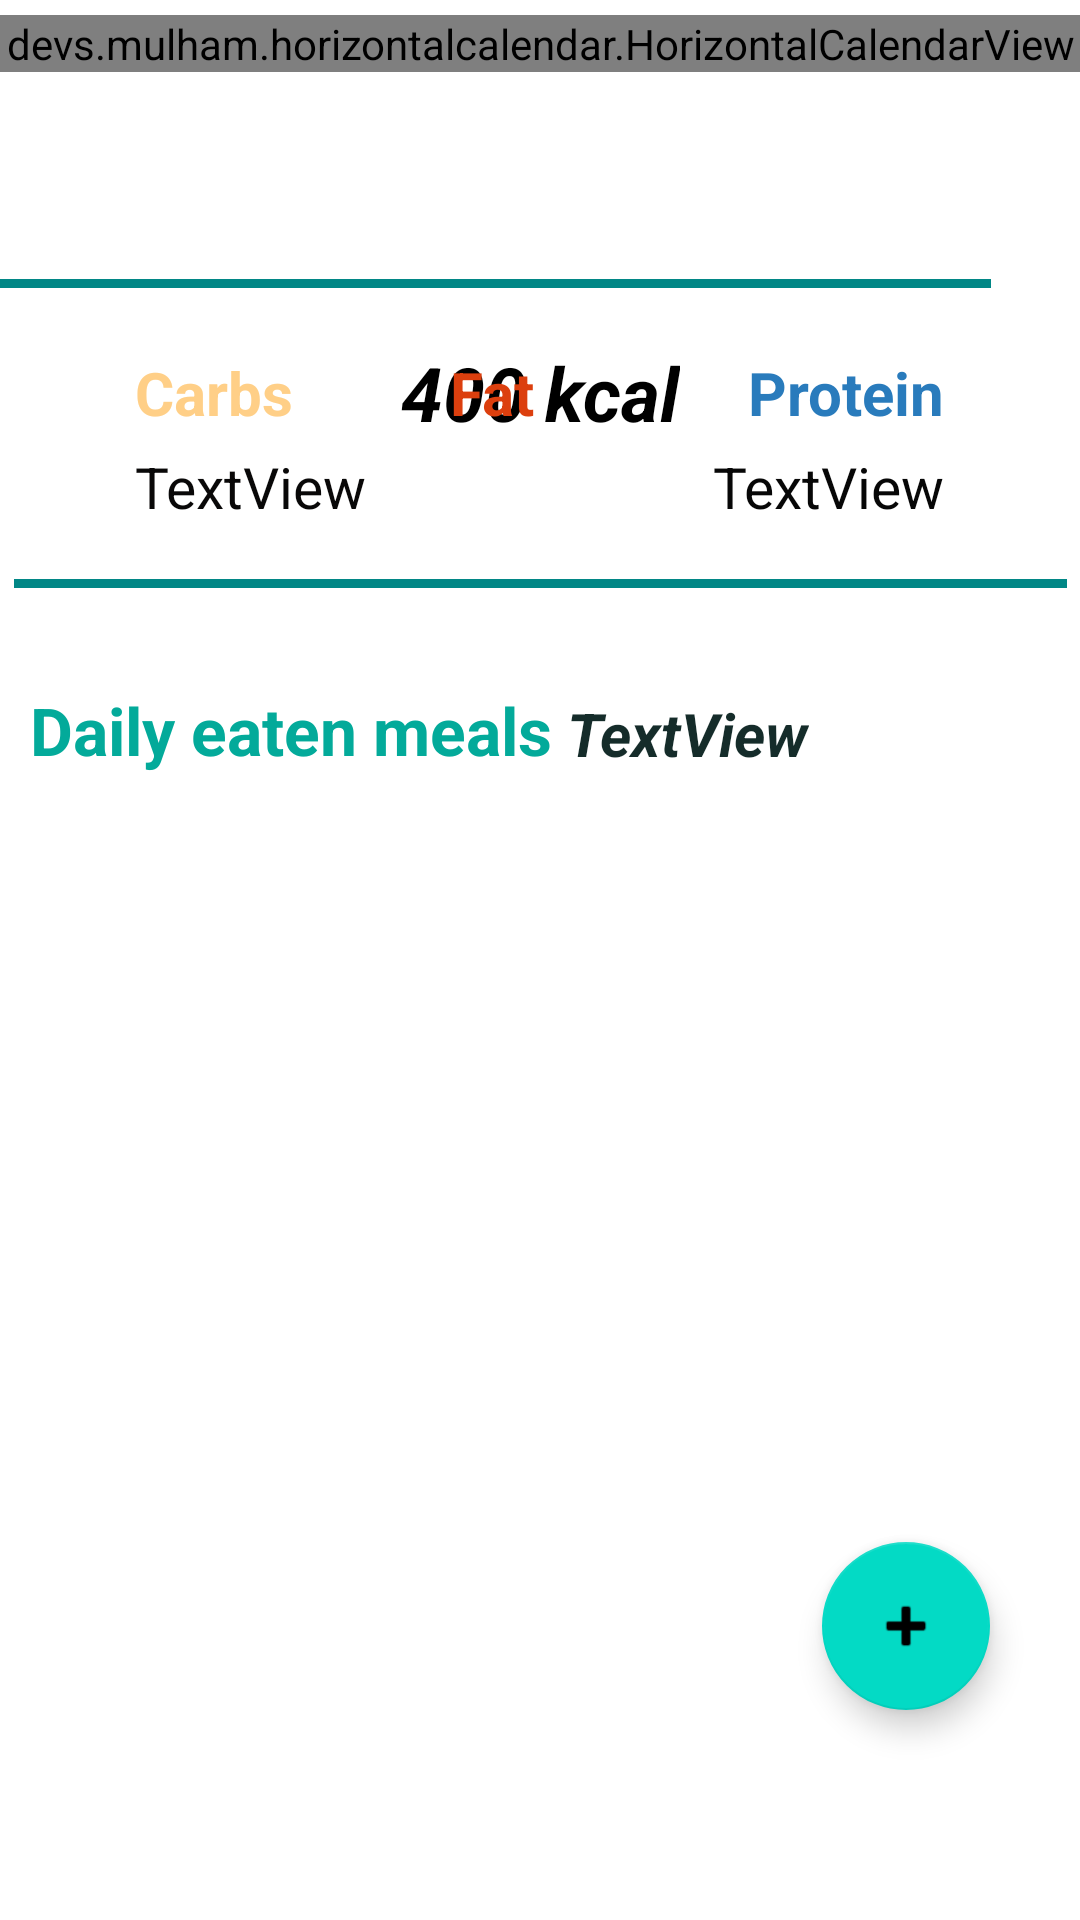

Icon click points for this 1080 × 1920 phone screenshot, format (x=x, y=y):
Add meal: (x=906, y=1626)
